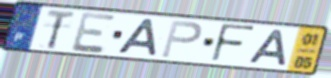A: (114, 18, 159, 58), (247, 28, 289, 68)
E: (70, 11, 118, 55)
F: (208, 22, 258, 64)
P: (159, 19, 204, 60)
T: (45, 8, 77, 51)
